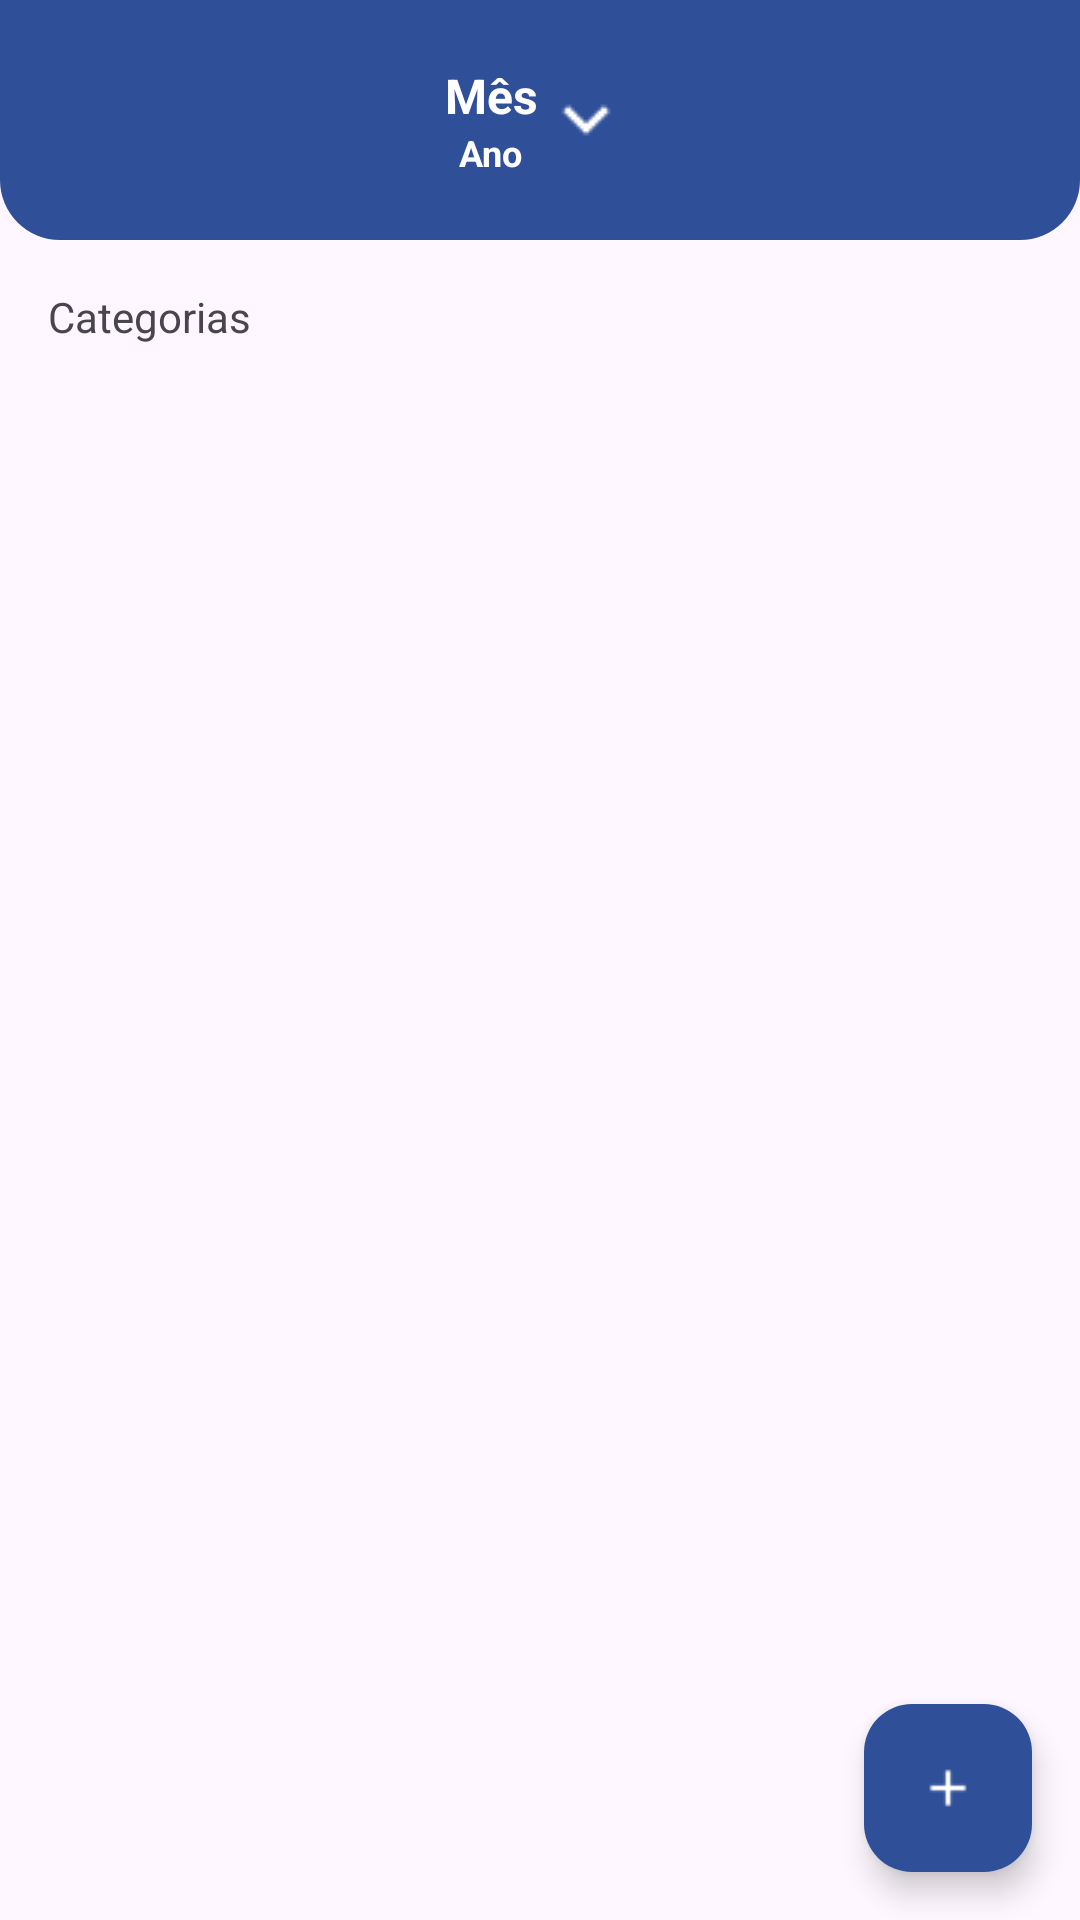

Named icons in this screenshot (1080 x 1920) and their bounding boxes, [x1,y1,x2,y2]:
add: [864,1704,1032,1872]
keyboard arrow down: [562,105,610,135]
